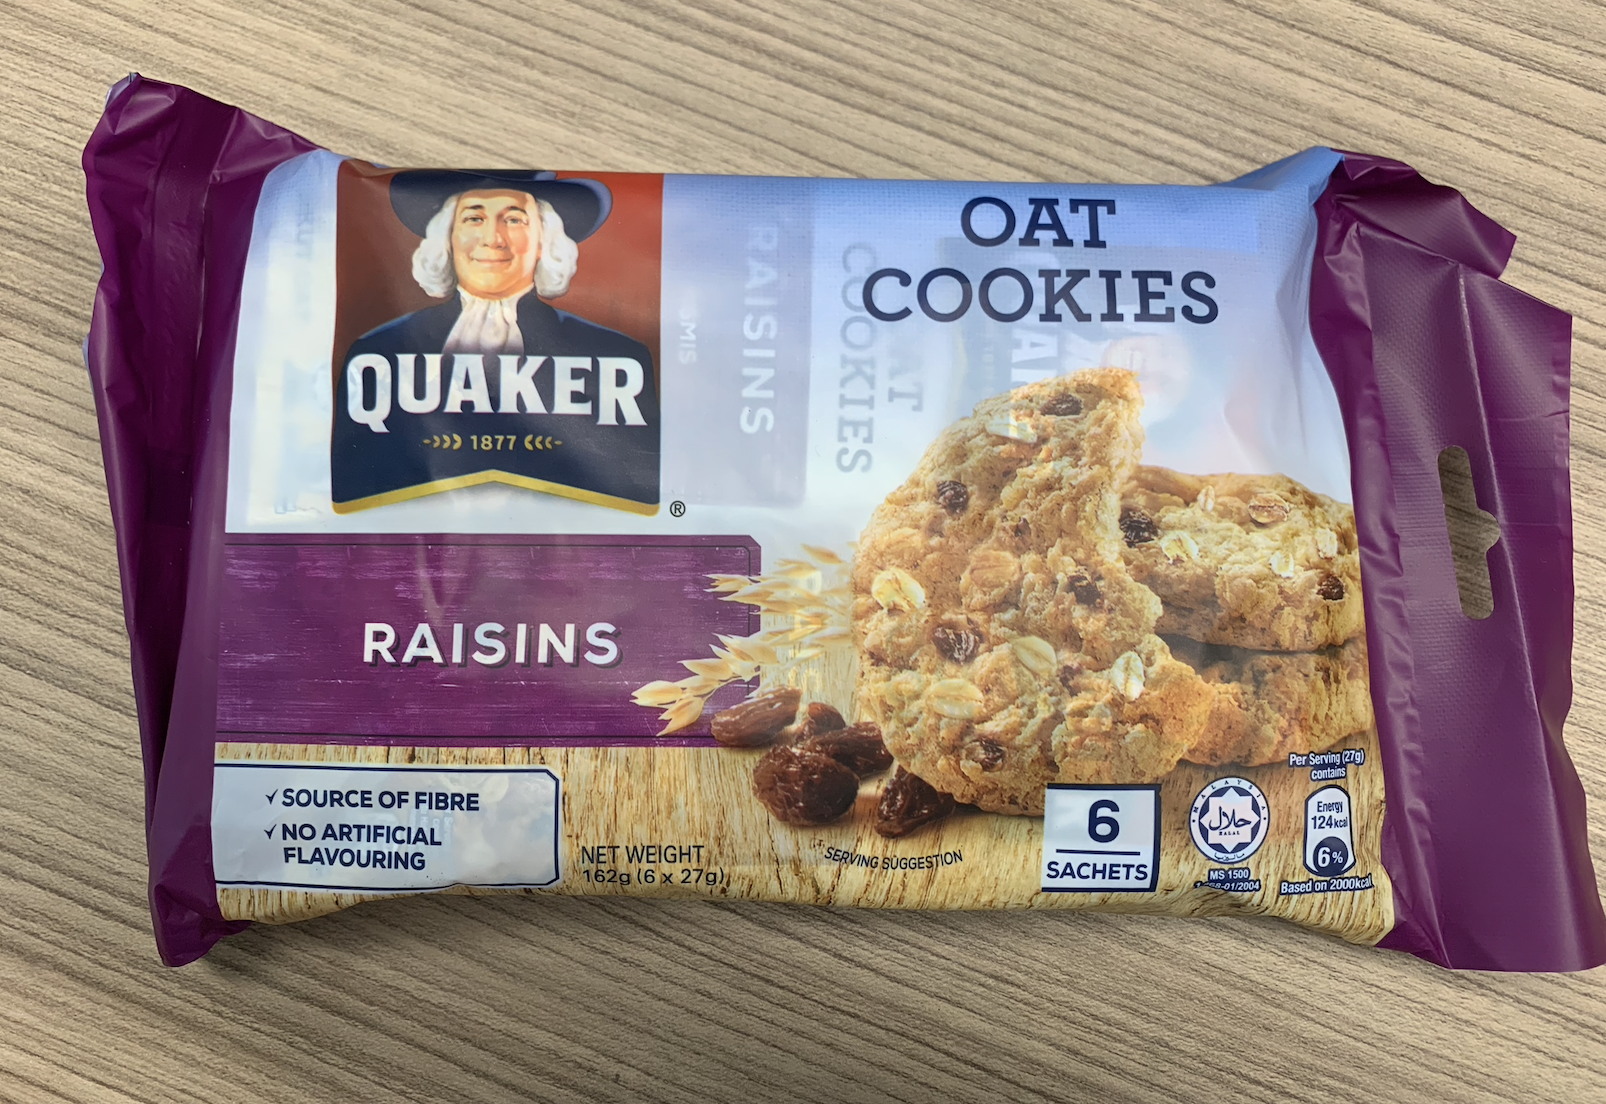cookies_150g: (172, 194, 1421, 889)
